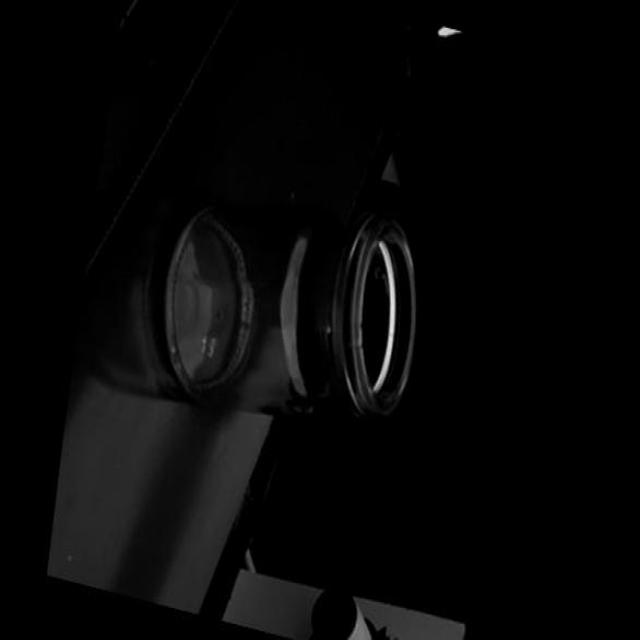defect: (341, 311, 370, 358), (317, 312, 338, 340)
glass: (144, 152, 440, 466)
